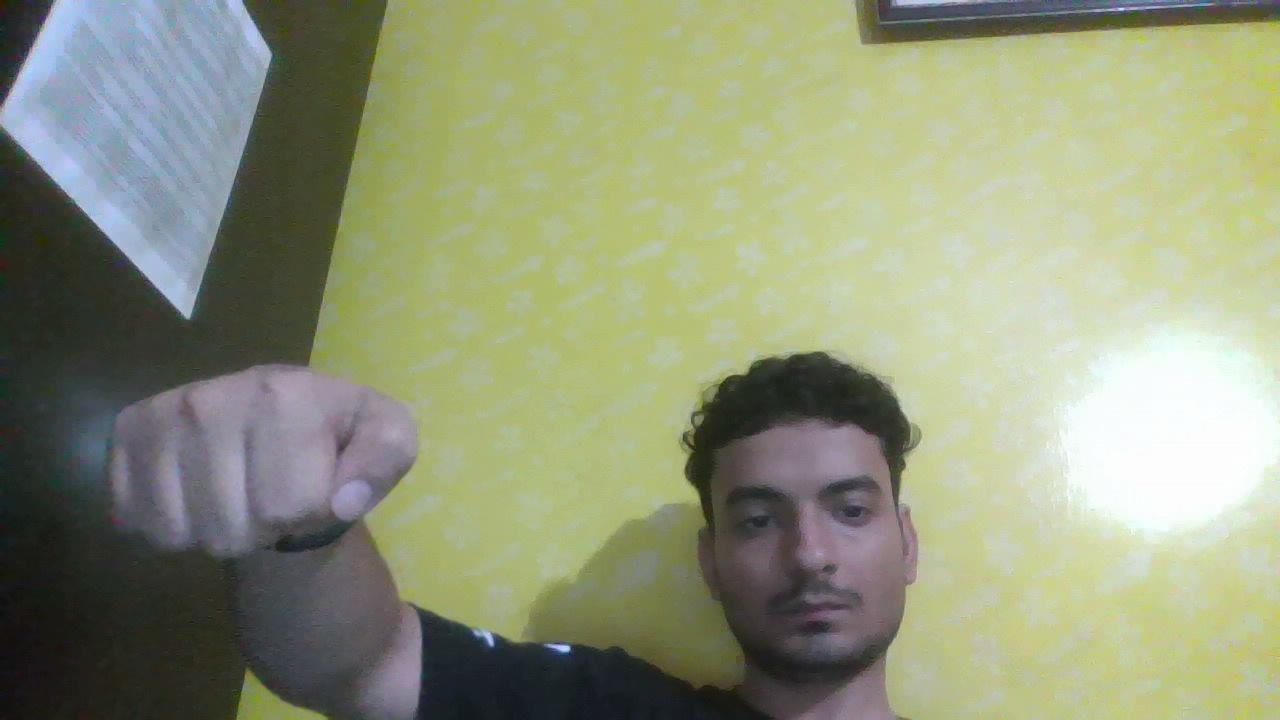Yes: (46, 345, 474, 604)
